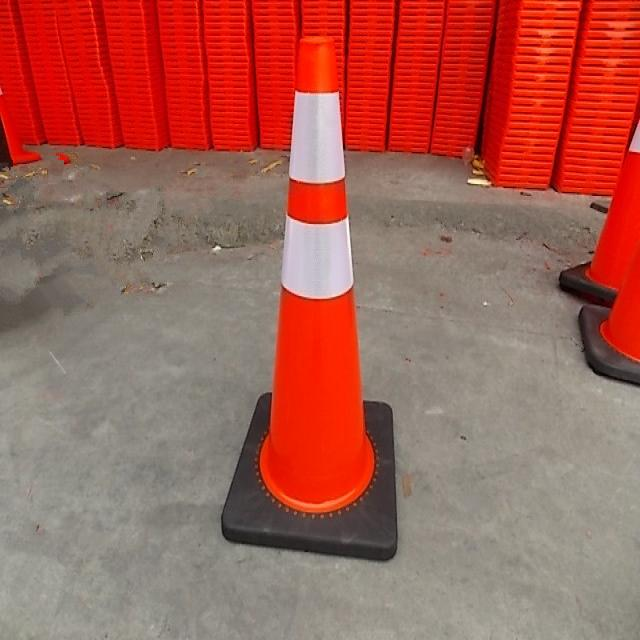reflective_cone: (218, 35, 405, 560)
